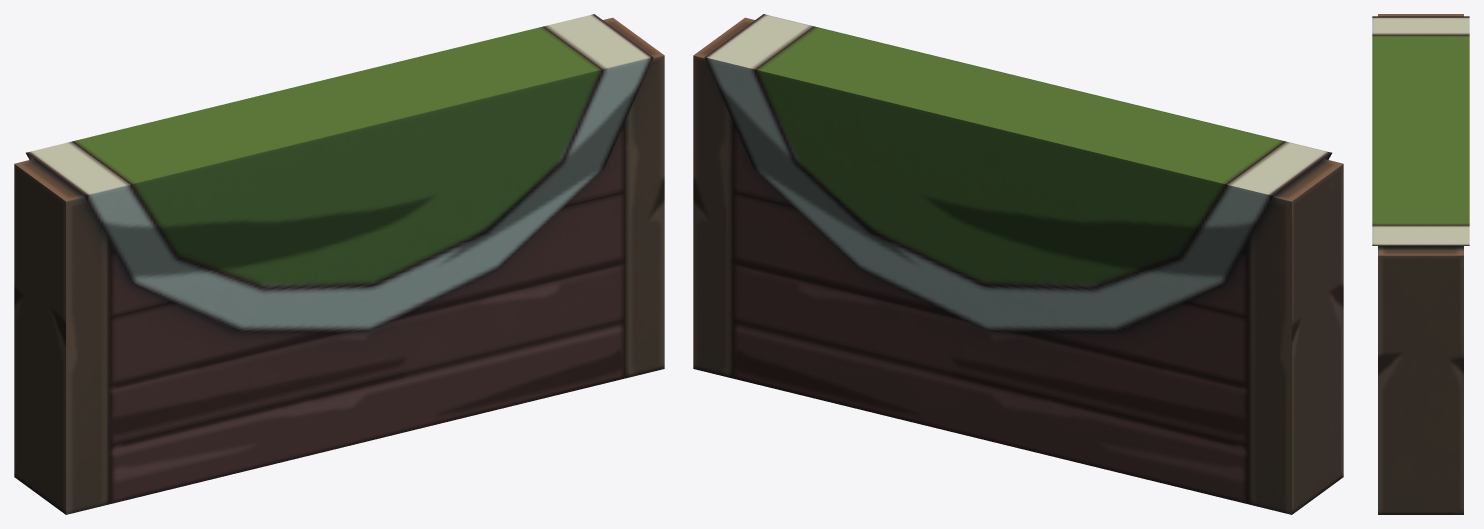
File: arena_6.FBX
3 renders of one model, left to right at view 1: azimuth 30°, elevation 25°; view 2: azimuth 150°, elevation 25°; view 3: azimuth 270°, elevation 25°, orthographic. The views are drawn at different scales.
Parts seen in each view (by area): view 1: Box007; view 2: Box007; view 3: Box007.
Boxes of the visible parts, <box> form: Box007: <box>14,14,664,514</box>; Box007: <box>693,14,1343,514</box>; Box007: <box>1372,14,1469,514</box>.
Bounding box in the file's own units: 280 × 142 × 47.8.
